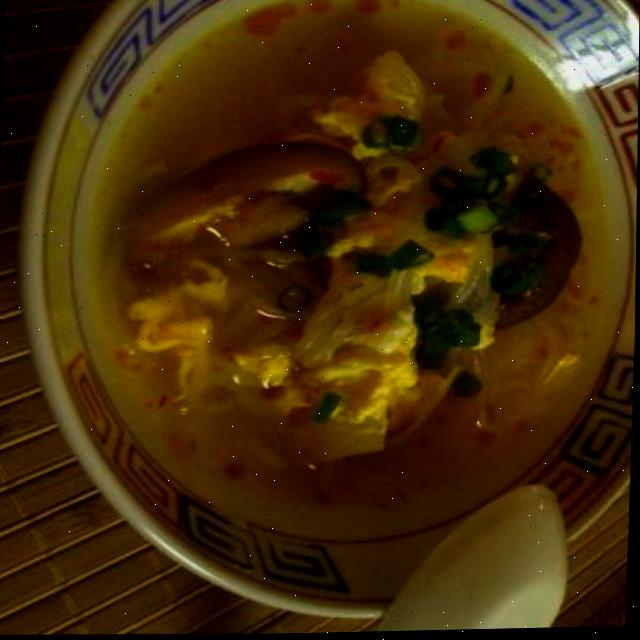汤锅炖物: (8, 0, 640, 629)
